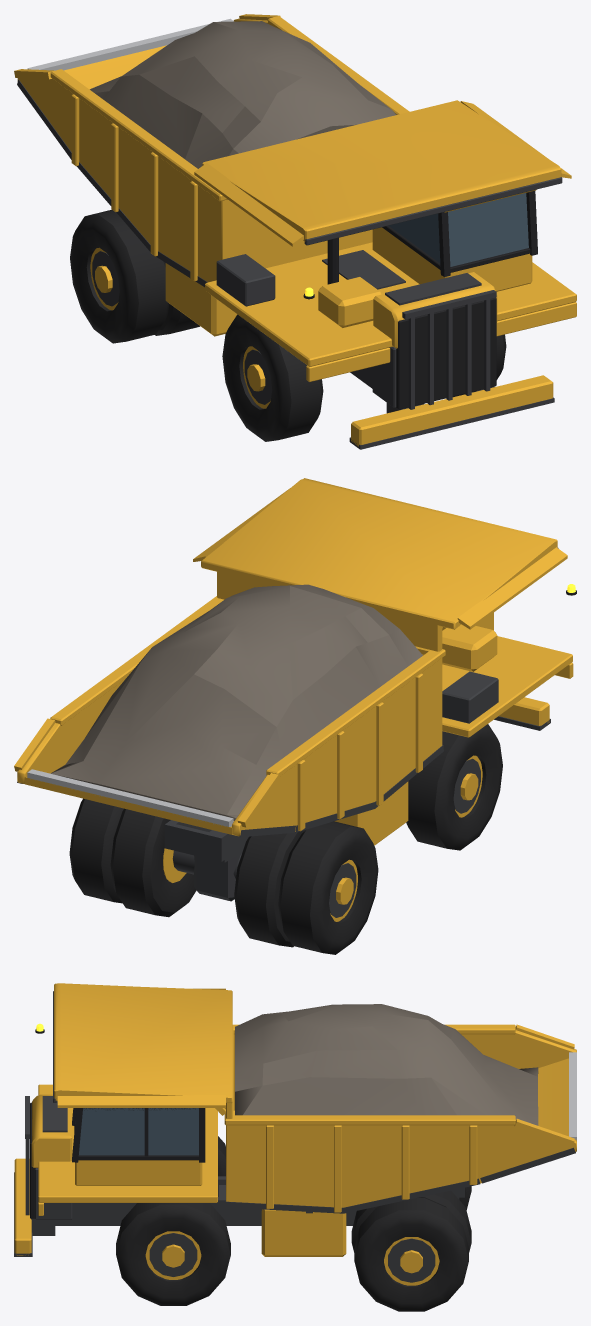
File: hauler_LOD1.glb
3 renders of one model, top to bottom at view 1: azimuth 30°, elevation 25°; view 2: azimuth 150°, elevation 25°; view 3: azimuth 270°, elevation 25°, orthographic. The views are drawn at different scales.
Parts seen in each view (by area): view 1: Chassis_LOD1, Canopy_LOD1, DumpBody_LOD1, Load_LOD1, Cab_LOD1, WheelRearRight_LOD1, WheelFrontRight_LOD1; view 2: Load_LOD1, Canopy_LOD1, DumpBody_LOD1, Chassis_LOD1, WheelRearRight_LOD1, WheelRearLeft_LOD1, WheelFrontRight_LOD1; view 3: DumpBody_LOD1, Load_LOD1, Canopy_LOD1, Chassis_LOD1, WheelRearLeft_LOD1, Cab_LOD1, WheelFrontLeft_LOD1.
Part boxes in pixels (<box>): Chassis_LOD1: <box>165,238,576,449</box>; Canopy_LOD1: <box>194,100,571,246</box>; DumpBody_LOD1: <box>14,14,409,287</box>; Load_LOD1: <box>90,21,396,168</box>; Cab_LOD1: <box>372,189,537,291</box>; WheelRearRight_LOD1: <box>70,209,199,343</box>; WheelFrontRight_LOD1: <box>222,314,323,441</box>; Load_LOD1: <box>51,584,422,820</box>; Canopy_LOD1: <box>193,478,567,629</box>; DumpBody_LOD1: <box>14,571,445,837</box>; Chassis_LOD1: <box>164,612,573,901</box>; WheelRearRight_LOD1: <box>234,821,378,954</box>; WheelRearLeft_LOD1: <box>69,798,196,917</box>; WheelFrontRight_LOD1: <box>406,724,502,850</box>; DumpBody_LOD1: <box>224,1024,576,1213</box>; Load_LOD1: <box>235,1004,538,1125</box>; Canopy_LOD1: <box>53,983,232,1115</box>; Chassis_LOD1: <box>14,1084,464,1256</box>; WheelRearLeft_LOD1: <box>351,1190,471,1311</box>; Cab_LOD1: <box>72,1108,205,1185</box>; WheelFrontLeft_LOD1: <box>116,1203,230,1305</box>.
Size of the model in its own units: 4.89 by 4.88 by 9.96.
